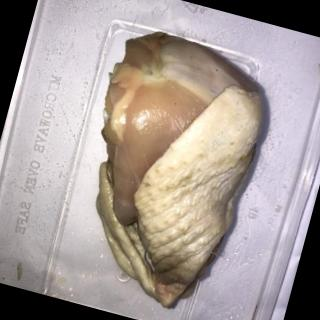Ayam: (52, 20, 280, 320)
